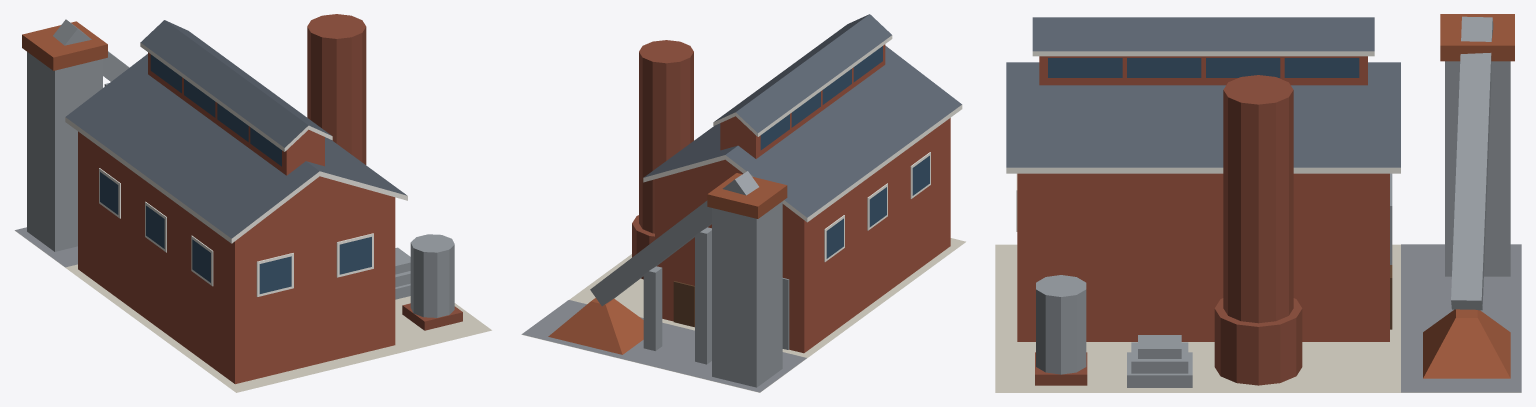
The picture shows the model from 3 angles, left to right: view 1: azimuth 30°, elevation 25°; view 2: azimuth 150°, elevation 25°; view 3: azimuth 270°, elevation 25°; orthographic projection. The views are drawn at different scales.
Parts seen in each view (by area): view 1: hall, roof (×2), hopper, smoke_stack, yard, window_glass (×5), water_tank, roof_edge (×2), gable, hopper_top, window_band (×4), clerestory (+4 smaller); view 2: hall, roof (×2), hopper, smoke_stack, yard_front, leg (×2), conveyor, ore_heap, yard, roof_edge (×2), hopper_top, window_band (×4) (+6 smaller); view 3: hall, roof (×2), smoke_stack, yard, yard_front, conveyor, hopper, window_band (×4), furnace, ore_heap, water_tank, roof_edge (×2) (+4 smaller).
Part boxes in pixels (left/top/right/bottom): hall: left=78, top=131, right=395, bottom=384; roof (×2): left=66, top=20, right=406, bottom=238; hopper: left=27, top=52, right=102, bottom=251; smoke_stack: left=307, top=14, right=366, bottom=164; yard: left=15, top=231, right=491, bottom=392; window_glass (×5): left=100, top=172, right=371, bottom=293; water_tank: left=410, top=234, right=454, bottom=317; roof_edge (×2): left=65, top=42, right=407, bottom=243; gable: left=249, top=176, right=390, bottom=230; hopper_top: left=22, top=21, right=107, bottom=70; window_band (×4): left=150, top=54, right=281, bottom=166; clerestory: left=148, top=52, right=324, bottom=175; hall: left=655, top=118, right=950, bottom=353; roof (×2): left=644, top=14, right=961, bottom=217; hopper: left=712, top=201, right=782, bottom=387; smoke_stack: left=639, top=40, right=693, bottom=233; yard_front: left=521, top=300, right=806, bottom=392; leg (×2): left=643, top=227, right=711, bottom=364; conveyor: left=590, top=171, right=758, bottom=306; ore_heap: left=548, top=298, right=643, bottom=354; yard: left=522, top=238, right=965, bottom=392; roof_edge (×2): left=643, top=35, right=962, bottom=222; hopper_top: left=707, top=173, right=787, bottom=218; window_band (×4): left=760, top=46, right=882, bottom=150; hall: left=1017, top=173, right=1389, bottom=341; roof (×2): left=1006, top=17, right=1400, bottom=167; smoke_stack: left=1223, top=75, right=1293, bottom=323; yard: left=995, top=244, right=1521, bottom=392; yard_front: left=1401, top=244, right=1521, bottom=392; conveyor: left=1451, top=16, right=1493, bottom=310; hopper: left=1445, top=61, right=1510, bottom=276; window_band (×4): left=1048, top=58, right=1359, bottom=77; furnace: left=1214, top=298, right=1302, bottom=385; ore_heap: left=1423, top=309, right=1510, bottom=378; water_tank: left=1036, top=275, right=1086, bottom=374; roof_edge (×2): left=1006, top=51, right=1400, bottom=173.
Bounding box in the file's own units: 16 × 14.05 × 24.
